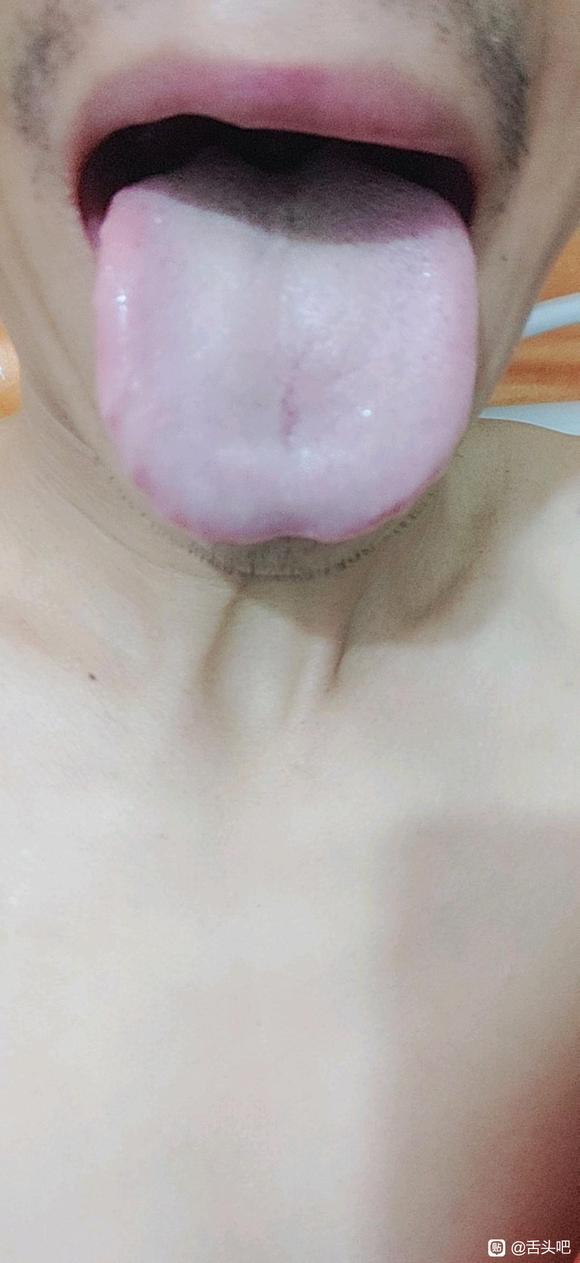baitaishe: (96, 141, 480, 545)
liewenshe: (269, 344, 300, 449)
xinfeiao: (213, 502, 339, 547)
